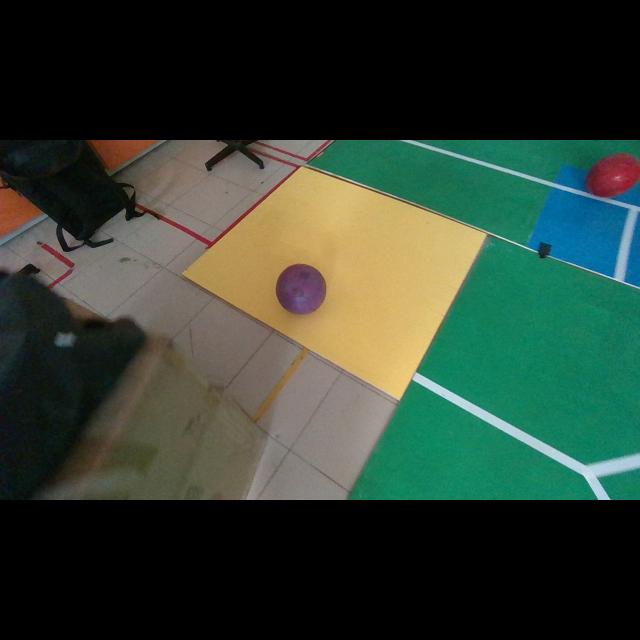P: (276, 264, 326, 314)
R: (586, 152, 640, 197)
